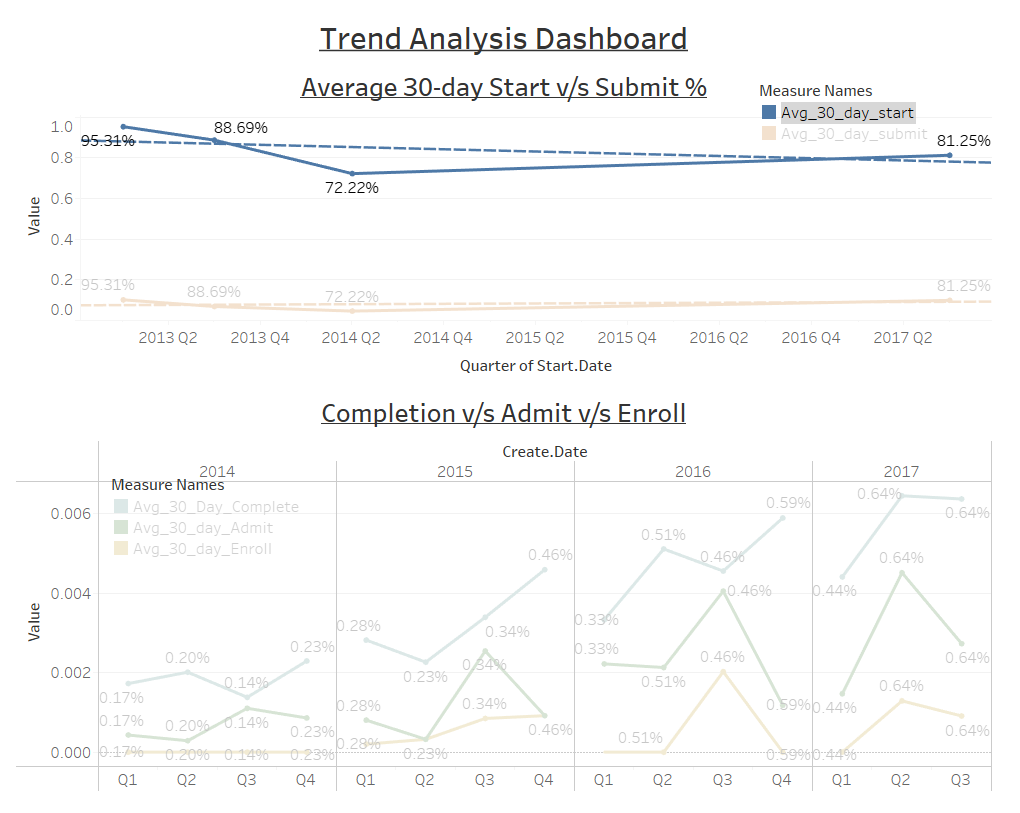

What the dashboard file says about the page in this screenshot:
{"tool":"tableau","page":{"name":"Trend Analysis Dashboard","canvas":[1000,800],"ordinal":2},"visuals":[{"type":"title","box":[8,8,984,49]},{"type":"worksheet","title":"Average 30-day Start v/s Submit","mark":"Automatic","cols":["start.date"],"box":[8,57,984,326.2]},{"type":"legend","title":"Average 30-day Start v/s Submit","param":"[federated.1u9c2b41r9shtt13e0gsa17wkkft].[:Measure Names]","box":[755,76,174,64]},{"type":"worksheet","title":"Completion v/s Admit v/s Enroll","mark":"Automatic","cols":["create.date","create.date"],"box":[8,383.2,984,408.8]},{"type":"legend","title":"Completion v/s Admit v/s Enroll","param":"[federated.1u9c2b41r9shtt13e0gsa17wkkft].[:Measure Names]","box":[107,470,193,85]}]}

Visuals, with their boxes in screenshot pixels (x1, y1, x2, y2), scaled from the page's 1000x800 canvas onto the 1020x813 screenshot:
title: [x1=8, y1=8, x2=1012, y2=58]
"Average 30-day Start v/s Submit" worksheet: [x1=8, y1=58, x2=1012, y2=389]
"Average 30-day Start v/s Submit" legend: [x1=770, y1=77, x2=948, y2=142]
"Completion v/s Admit v/s Enroll" worksheet: [x1=8, y1=389, x2=1012, y2=805]
"Completion v/s Admit v/s Enroll" legend: [x1=109, y1=478, x2=306, y2=564]
